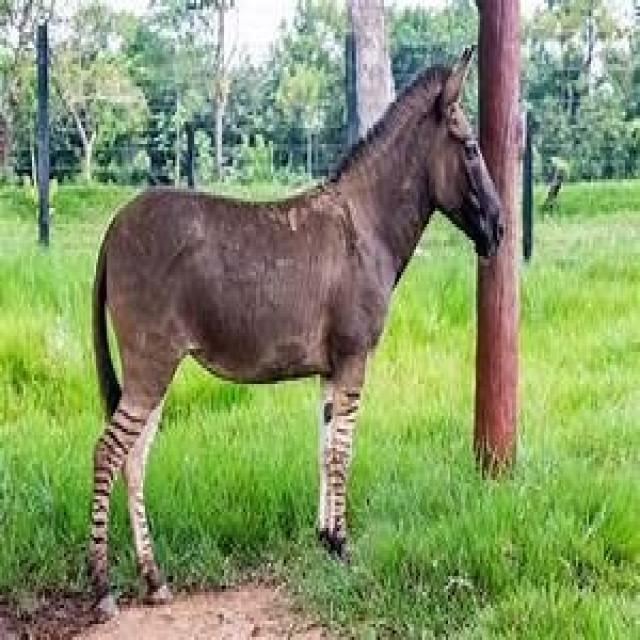Donkey: (80, 49, 510, 616)
